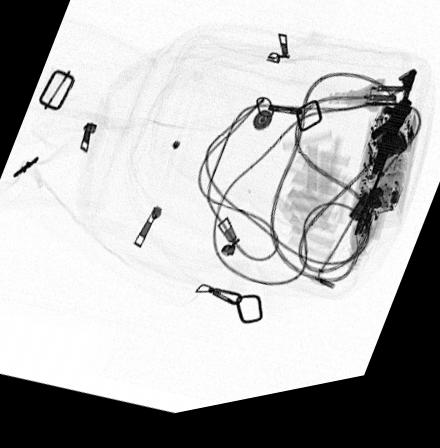Gun: (354, 86, 417, 250)
